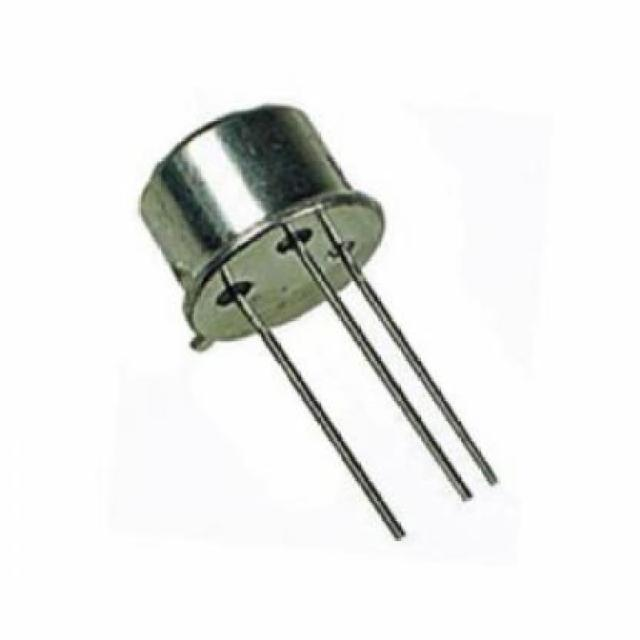Transistor: (138, 105, 498, 540)
